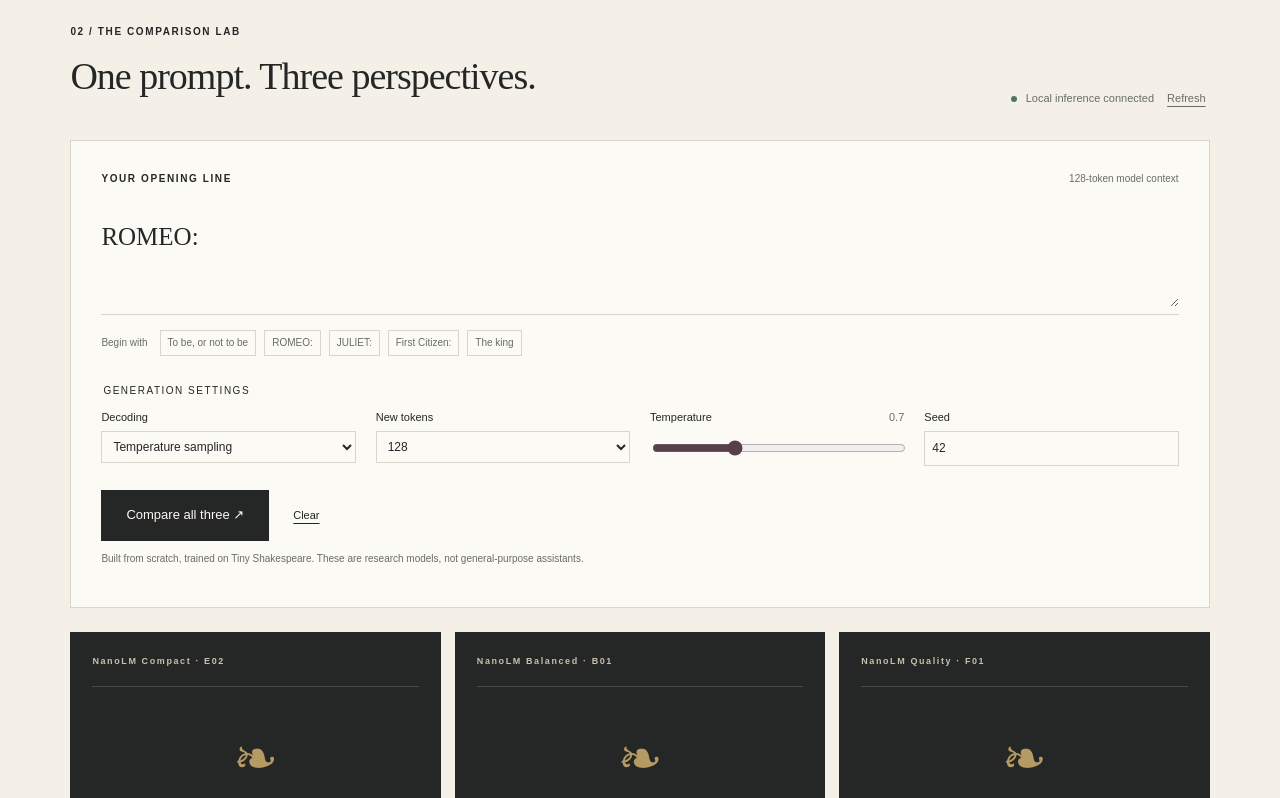
Test: comparison renders all slots including an unavailable model
Expected: the text "Local inference connected" is shown, left=1026, top=92, right=1154, bottom=104
Click the button "Compare all three ↗".
click(185, 516)  # box left=101, top=490, right=269, bottom=541
(page scrolled)
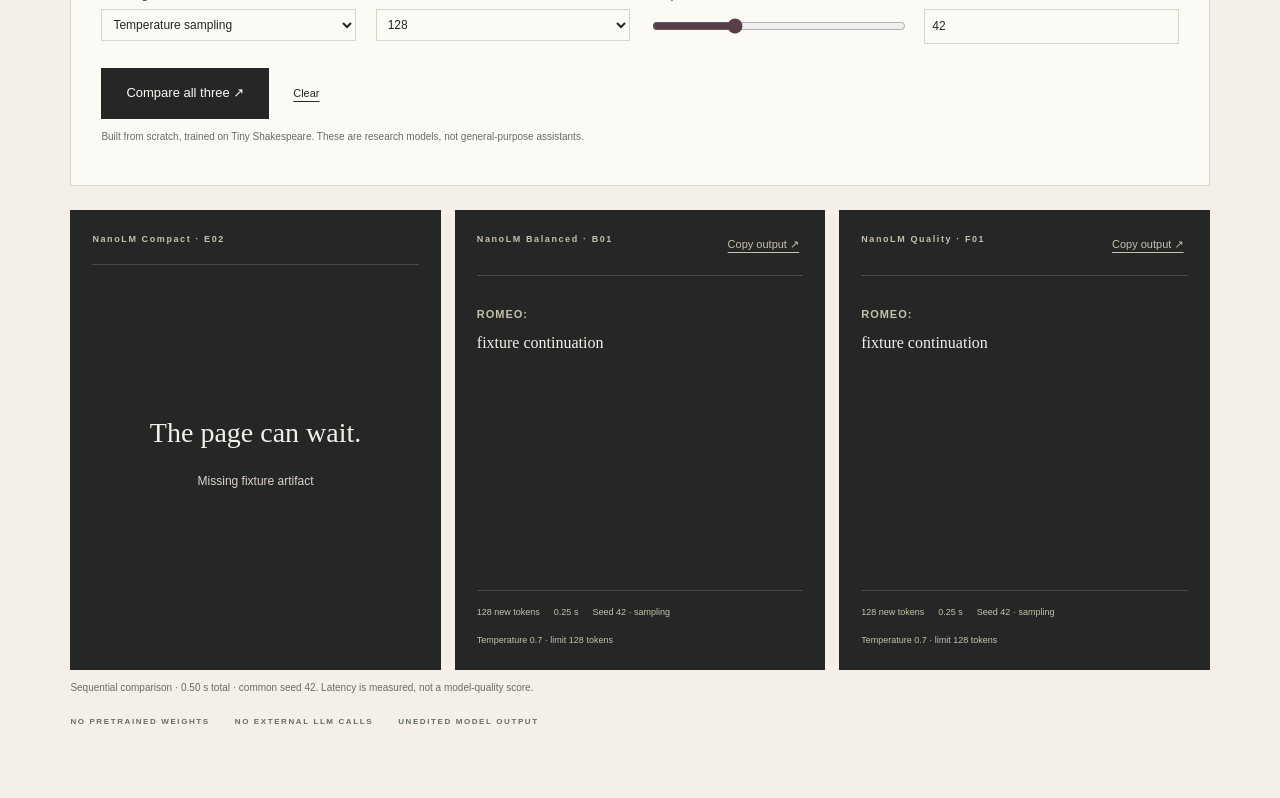
Expected: the text "Missing fixture artifact" is shown, left=198, top=471, right=314, bottom=493
Expected: the text "128 new tokens" is shown 2 times, left=477, top=605, right=540, bottom=619; left=861, top=605, right=924, bottom=619
